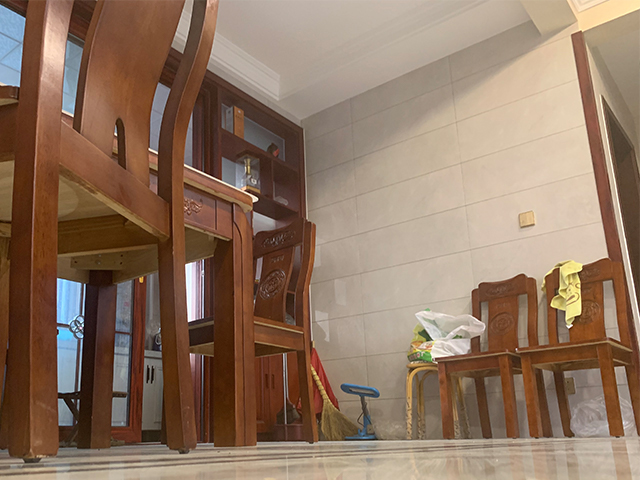stool: (1, 1, 221, 463), (187, 217, 320, 445), (515, 256, 640, 440), (431, 273, 555, 440), (404, 361, 471, 442)
